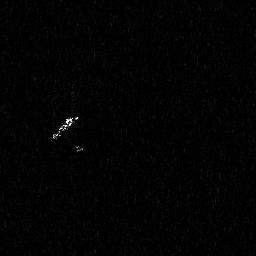ship: (48, 114, 81, 143)
